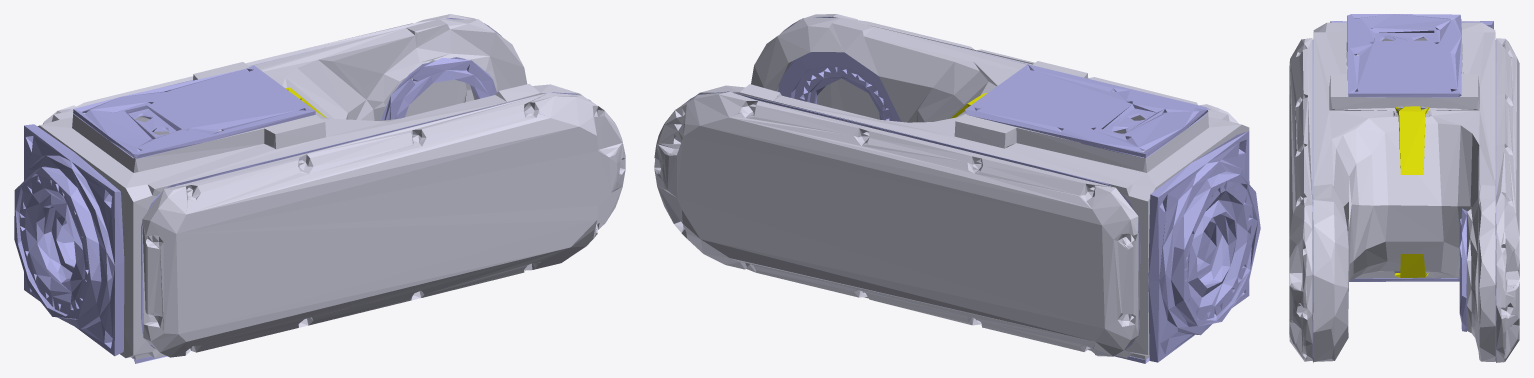
3 views of the same model, side by side, from view 1: azimuth 30°, elevation 25°; view 2: azimuth 150°, elevation 25°; view 3: azimuth 270°, elevation 25° (orthographic). The views are drawn at different scales.
Visible parts, largest first — view 1: J4; view 2: J4; view 3: J4.
Part boxes in pixels (left/top/right/bottom): J4: left=14, top=14, right=625, bottom=363; J4: left=654, top=14, right=1260, bottom=363; J4: left=1289, top=14, right=1519, bottom=362.
Bounding box in the file's own units: 0.4529 × 0.1948 × 0.1754.
